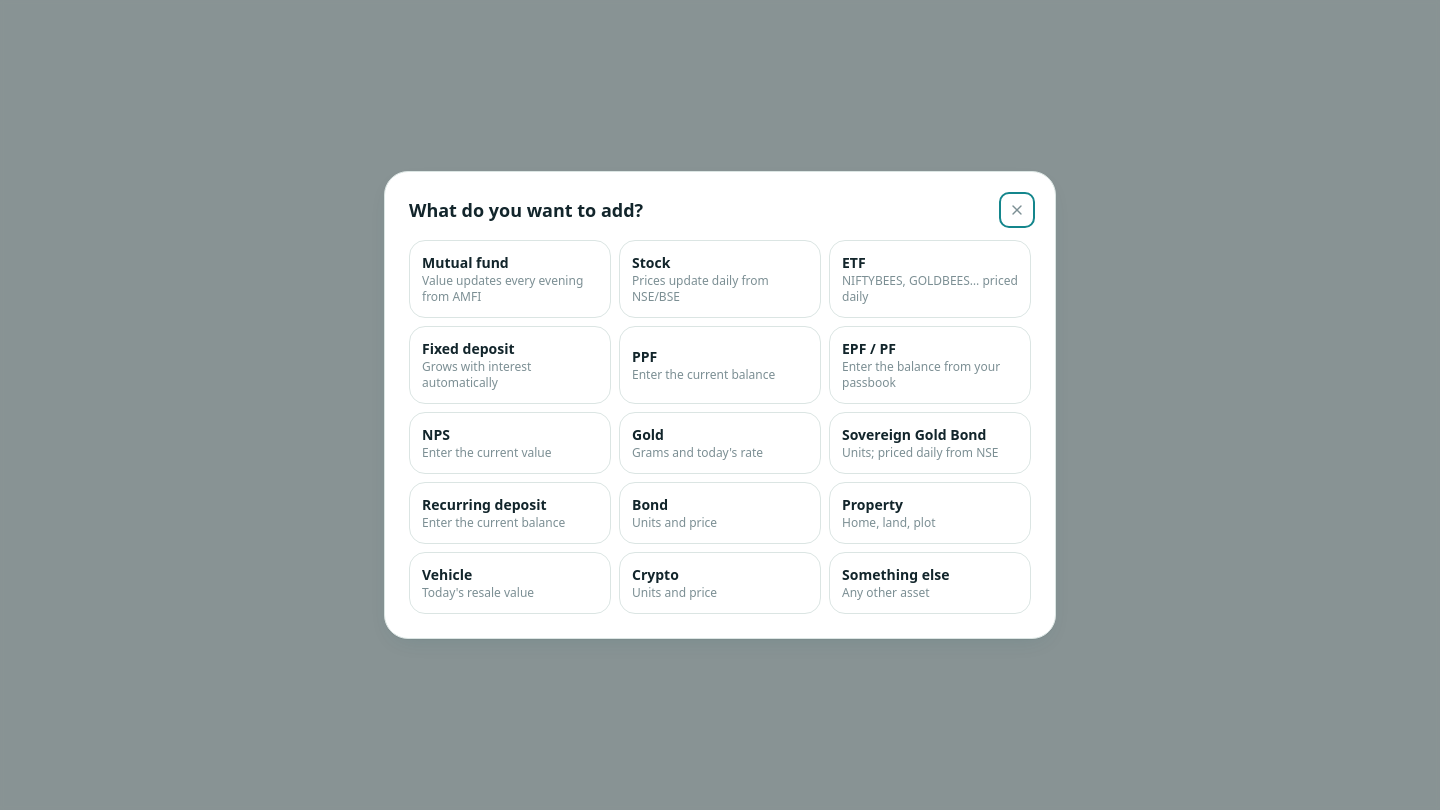
Test: adding an asset › fixed deposits ask for rate and dates
The width and height of the screenshot is (1440, 810).
Click the button "Fixed deposit Grows with interest automatically" at (510, 365), box 409,326 -> 611,404
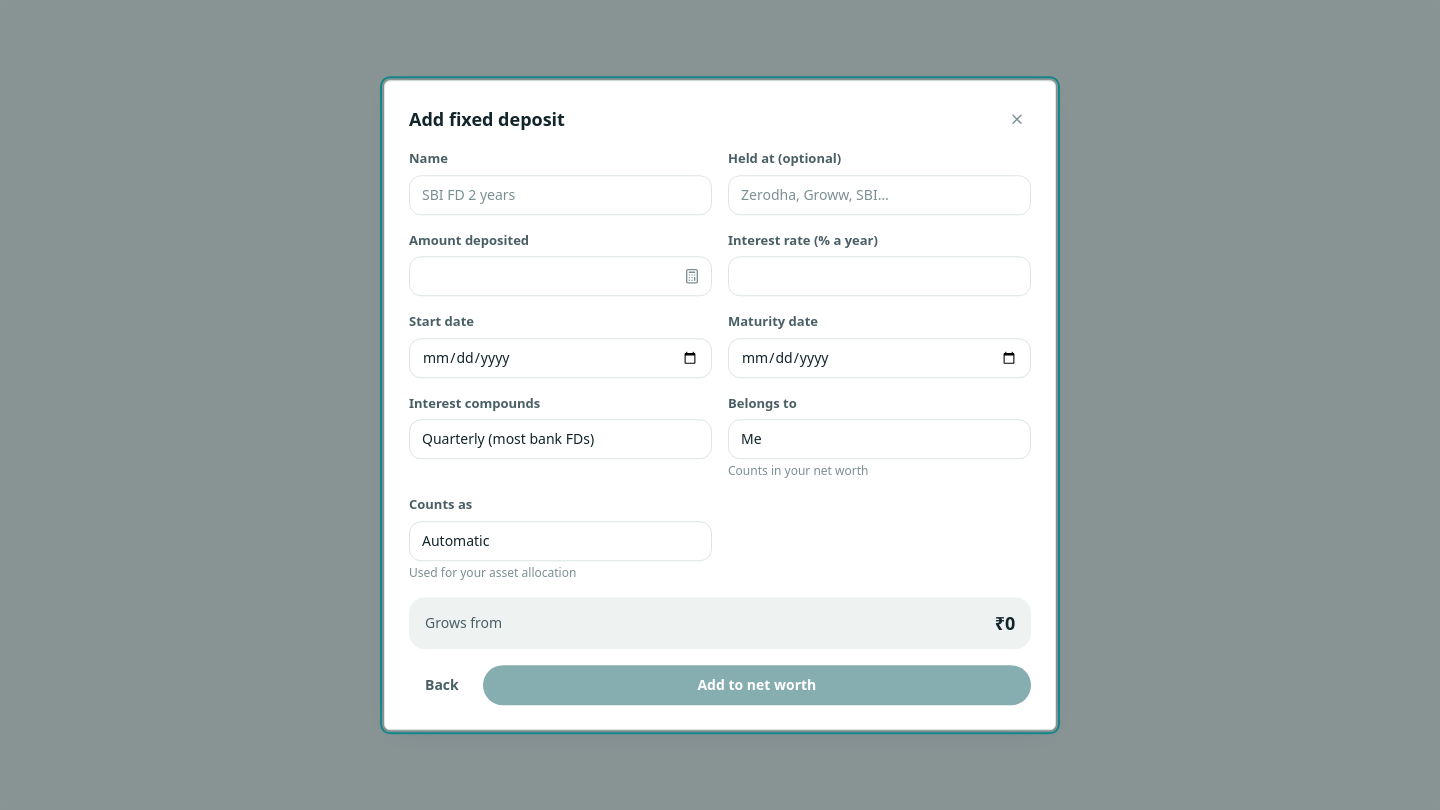
expect the field labelled "Interest rate (% a year)" is shown: met, box 728,256 -> 1031,296
expect the date field labelled "Maturity date" is shown: met, box 728,338 -> 1031,378
expect the dropdown labelled "Interest compounds" shows "Quarterly (most bank FDs)": met, box 409,419 -> 712,459
